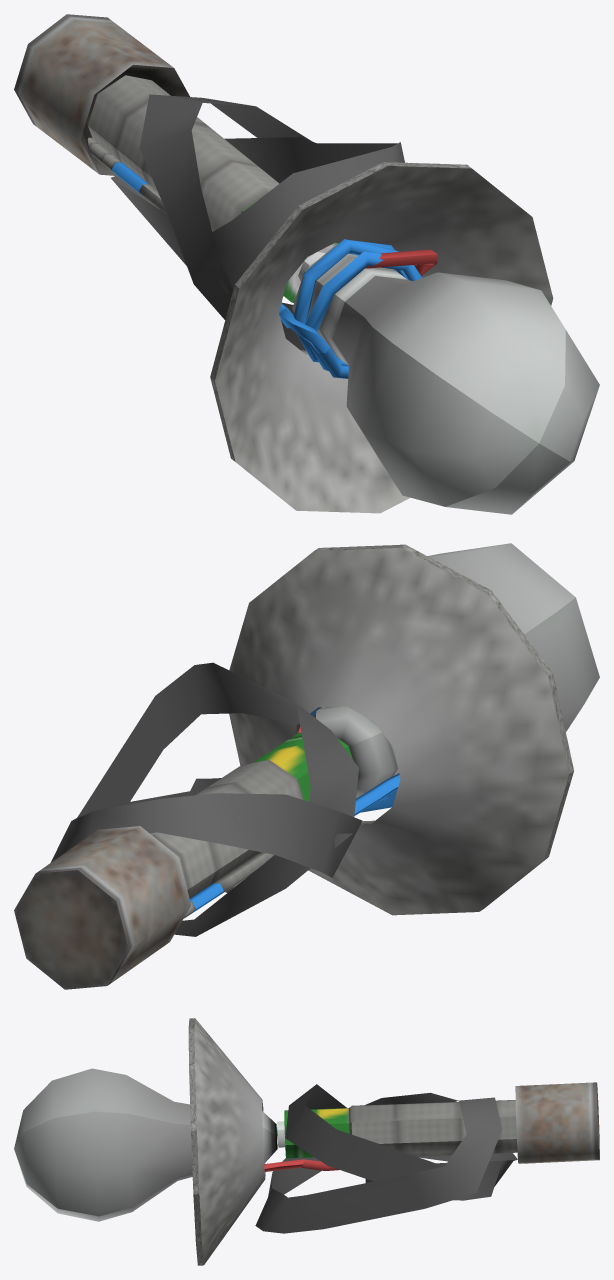
File: TapedImprovisedFlashlight.fbx
3 renders of one model, top to bottom at view 1: azimuth 30°, elevation 25°; view 2: azimuth 150°, elevation 25°; view 3: azimuth 270°, elevation 25°, orthographic. The views are drawn at different scales.
Visible parts, largest first — view 1: TapedImprovisedFlashlight; view 2: TapedImprovisedFlashlight; view 3: TapedImprovisedFlashlight.
Part boxes in pixels (left/top/right/bottom): TapedImprovisedFlashlight: left=14, top=14, right=599, bottom=514; TapedImprovisedFlashlight: left=14, top=543, right=599, bottom=989; TapedImprovisedFlashlight: left=14, top=1018, right=599, bottom=1265.
Bounding box in the file's own units: 0.0799 × 0.0799 × 0.1885.
